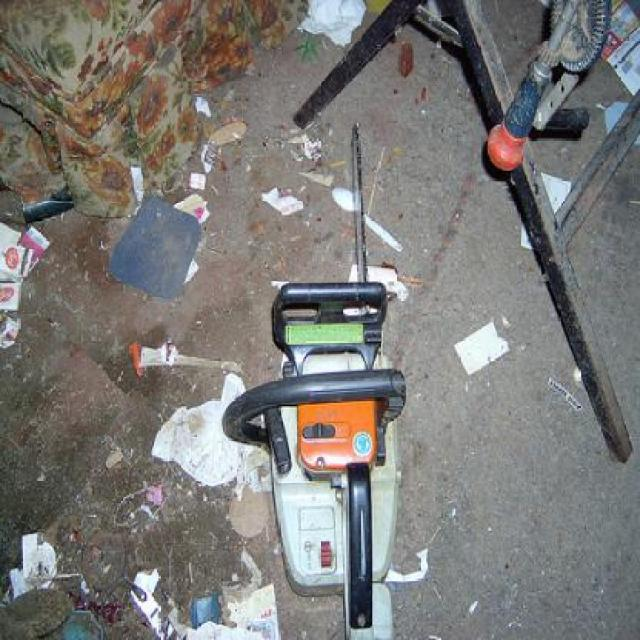Chainsaw: (222, 121, 410, 638)
